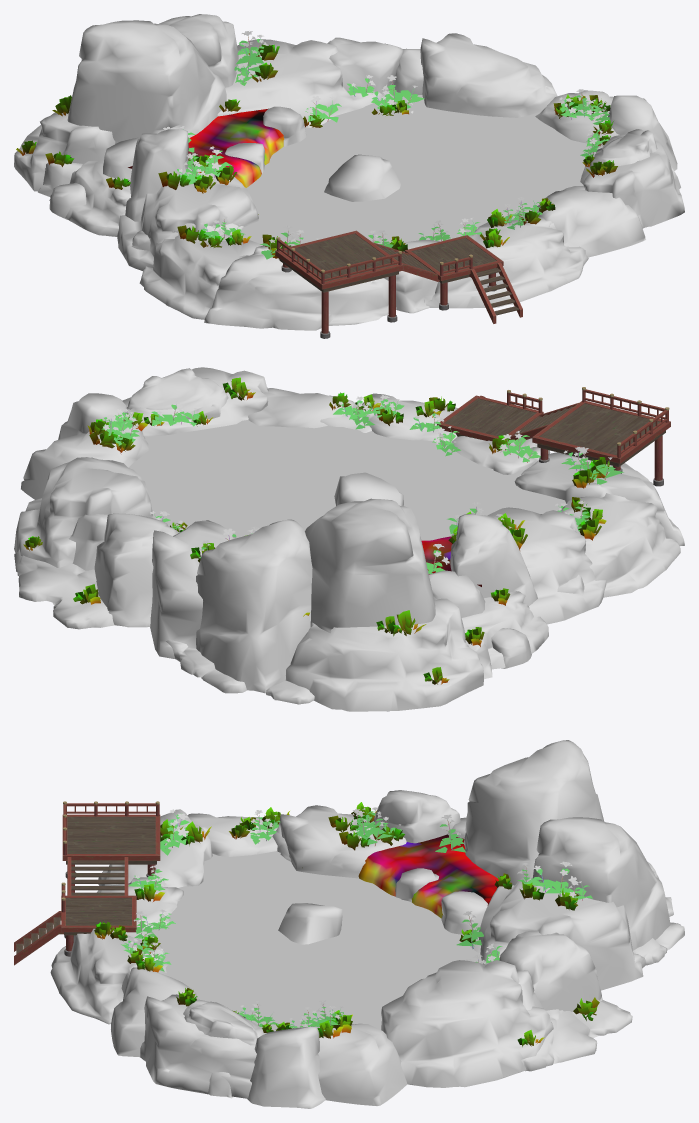
File: Homeworld_Exterior_Common_Thing_Fishpond_01_Lod0.fbx
3 renders of one model, top to bottom at view 1: azimuth 30°, elevation 25°; view 2: azimuth 150°, elevation 25°; view 3: azimuth 270°, elevation 25°, orthographic. The views are drawn at different scales.
Visible parts, largest first — view 1: Homeworld_Exterior_Common_Thing_Fishpond_A_01_Lod0, Homeworld_Exterior_Common_Thing_Fishpond_B_01_Vo, Homeworld_Exterior_Common_Thing_Fishpond_H_01_Lod0, Homeworld_Exterior_Common_Thing_Fishpond_C_01_Vo, Homeworld_Exterior_Common_Thing_Fishpond_E_01_Vo; view 2: Homeworld_Exterior_Common_Thing_Fishpond_A_01_Lod0, Homeworld_Exterior_Common_Thing_Fishpond_B_01_Vo, Homeworld_Exterior_Common_Thing_Fishpond_H_01_Lod0, Homeworld_Exterior_Common_Thing_Fishpond_C_01_Vo; view 3: Homeworld_Exterior_Common_Thing_Fishpond_A_01_Lod0, Homeworld_Exterior_Common_Thing_Fishpond_B_01_Vo, Homeworld_Exterior_Common_Thing_Fishpond_H_01_Lod0, Homeworld_Exterior_Common_Thing_Fishpond_C_01_Vo, Homeworld_Exterior_Common_Thing_Fishpond_E_01_Vo.
Part boxes in pixels (<box>): Homeworld_Exterior_Common_Thing_Fishpond_A_01_Lod0: <box>14,14,684,330</box>; Homeworld_Exterior_Common_Thing_Fishpond_B_01_Vo: <box>231,91,591,246</box>; Homeworld_Exterior_Common_Thing_Fishpond_H_01_Lod0: <box>275,230,522,338</box>; Homeworld_Exterior_Common_Thing_Fishpond_C_01_Vo: <box>128,108,284,187</box>; Homeworld_Exterior_Common_Thing_Fishpond_E_01_Vo: <box>234,31,263,73</box>; Homeworld_Exterior_Common_Thing_Fishpond_A_01_Lod0: <box>14,367,684,711</box>; Homeworld_Exterior_Common_Thing_Fishpond_B_01_Vo: <box>128,420,566,540</box>; Homeworld_Exterior_Common_Thing_Fishpond_H_01_Lod0: <box>437,387,670,486</box>; Homeworld_Exterior_Common_Thing_Fishpond_C_01_Vo: <box>421,536,481,586</box>; Homeworld_Exterior_Common_Thing_Fishpond_A_01_Lod0: <box>50,740,684,1108</box>; Homeworld_Exterior_Common_Thing_Fishpond_B_01_Vo: <box>143,851,481,1031</box>; Homeworld_Exterior_Common_Thing_Fishpond_H_01_Lod0: <box>14,801,160,965</box>; Homeworld_Exterior_Common_Thing_Fishpond_C_01_Vo: <box>358,834,498,918</box>; Homeworld_Exterior_Common_Thing_Fishpond_E_01_Vo: <box>524,861,577,896</box>.
Size of the model in its own units: 26.08 by 6.45 by 27.28.
5 materials, 1 textured.
